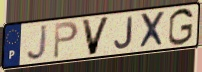G: (167, 7, 195, 47)
J: (26, 23, 49, 62), (113, 15, 134, 50)
P: (52, 20, 80, 61)
V: (80, 15, 112, 57)
X: (138, 10, 166, 50)
